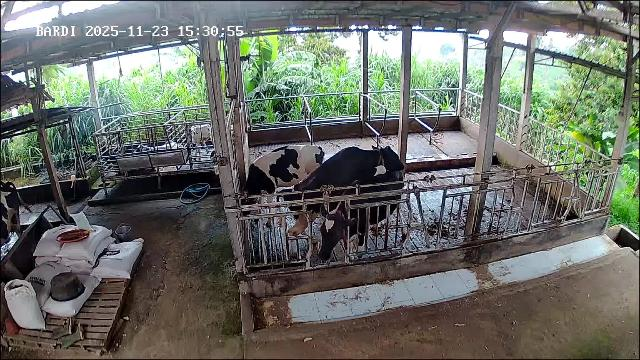mounting: (281, 144, 403, 262)
